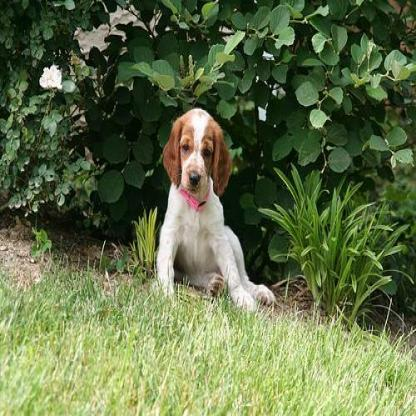Welsh_springer_spaniel: (151, 102, 279, 315)
